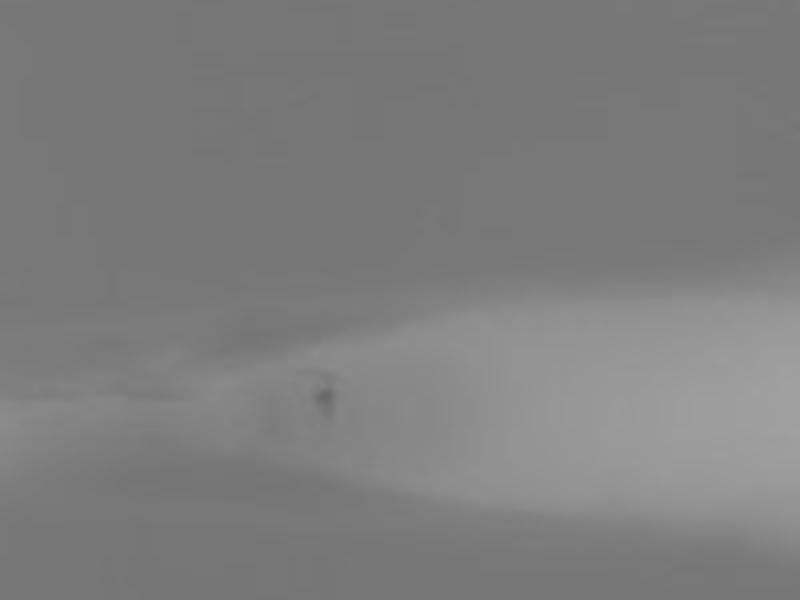defect: (311, 380, 342, 416)
